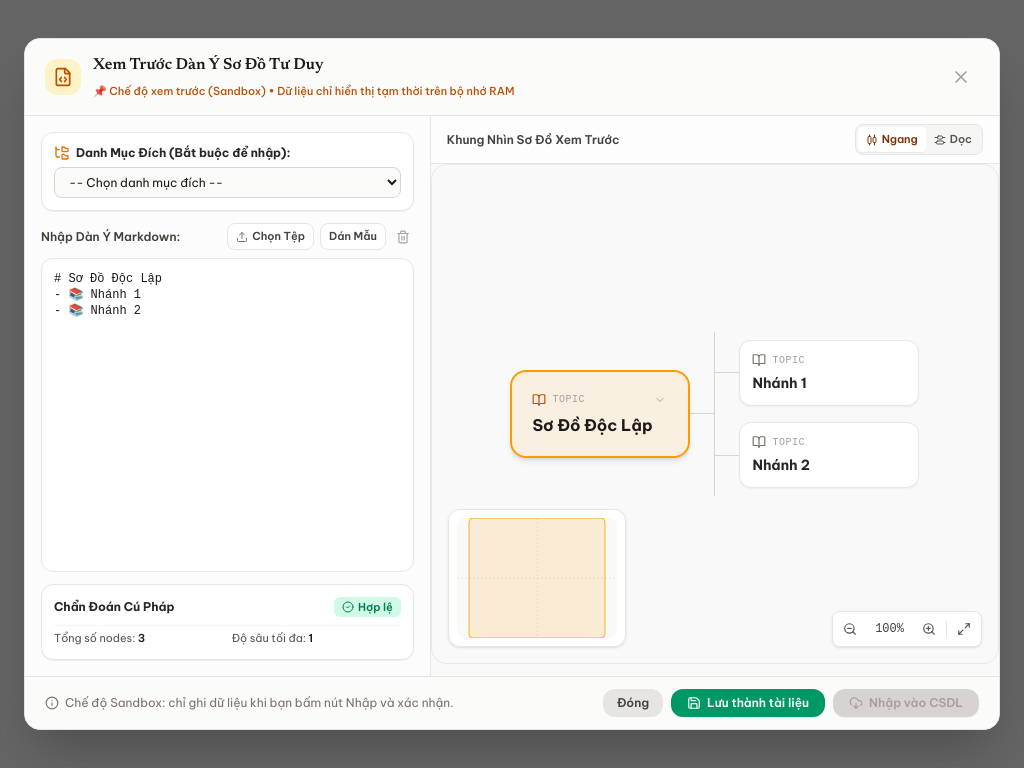
Test: Phase M1 — External Markdown Import to Saved Mind Map Document › Scenario 3 & 4: 'Lưu thành tài liệu' is enabled without category, while 'Nhập vào CSDL' requires category
This screenshot has width=1024, height=768.
Expected: the button with test id "btn-save-as-document" is enabled, [671,689,825,717]
Expected: the button with test id "btn-trigger-import" is disabled, [833,689,979,717]
# When category is selected, both are enabled
Select "Phật Học" in the dropdown with test id "import-target-category-select" at [227, 183], box [54,167,401,198]
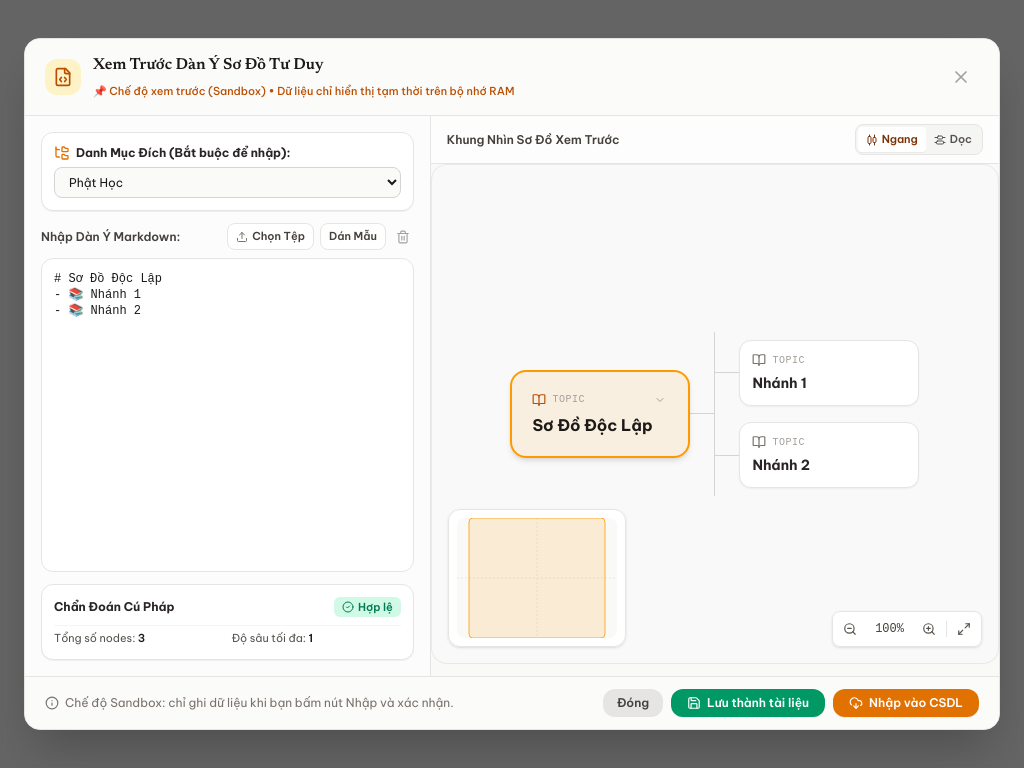
Expected: the button with test id "btn-save-as-document" is enabled, [671,689,825,717]
Result: the button with test id "btn-trigger-import" is enabled at [833,689,979,717]
